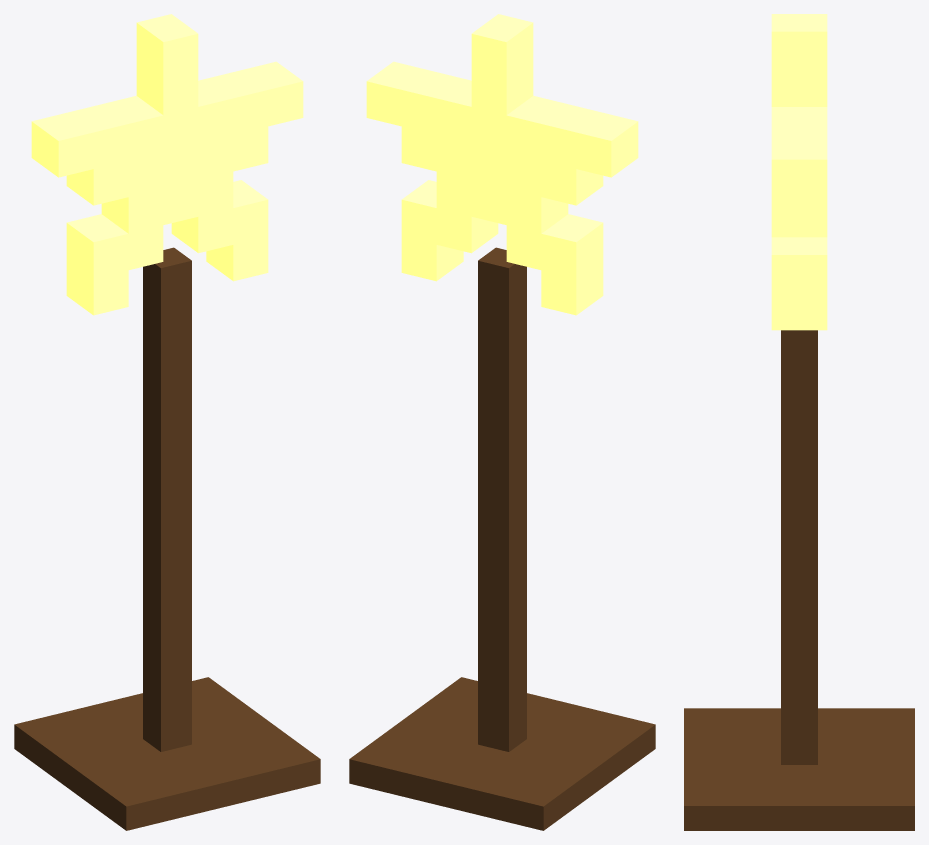
Rendered from ncb-lamp-star.glb.
The picture shows the model from 3 angles, left to right: view 1: azimuth 30°, elevation 25°; view 2: azimuth 150°, elevation 25°; view 3: azimuth 270°, elevation 25°; orthographic projection. The views are drawn at different scales.
Parts seen in each view (by area): view 1: box-prop; view 2: box-prop; view 3: box-prop.
Part boxes in pixels (<box>): box-prop: <box>14,14,320,830</box>; box-prop: <box>349,14,655,830</box>; box-prop: <box>684,14,914,830</box>.
Bounding box in the file's own units: 0.63 × 1.82 × 0.5.
